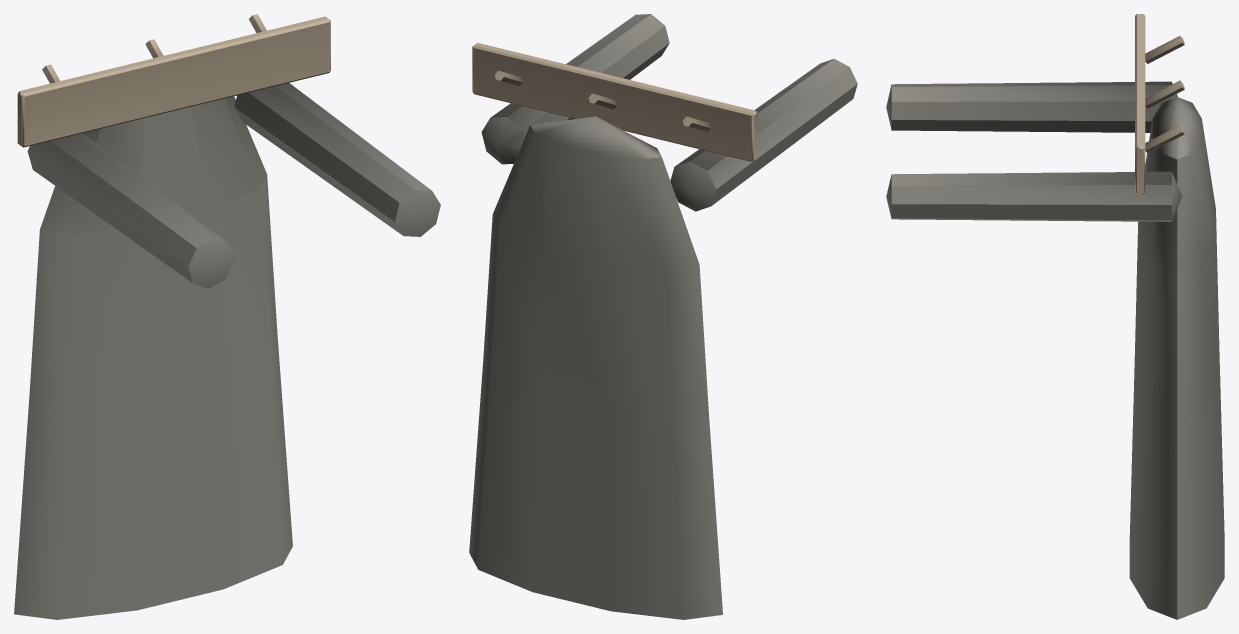
File: coat_hook.glb
3 views of the same model, side by side, from view 1: azimuth 30°, elevation 25°; view 2: azimuth 150°, elevation 25°; view 3: azimuth 270°, elevation 25° (orthographic). The views are drawn at different scales.
Visible parts, largest first — view 1: static; view 2: static; view 3: static.
Boxes of the visible parts, x1,y1,x2,y2 form: static: [14, 14, 440, 619]; static: [469, 14, 857, 619]; static: [886, 14, 1224, 619].
Bounding box in the file's own units: 0.6 × 1 × 0.6399.
